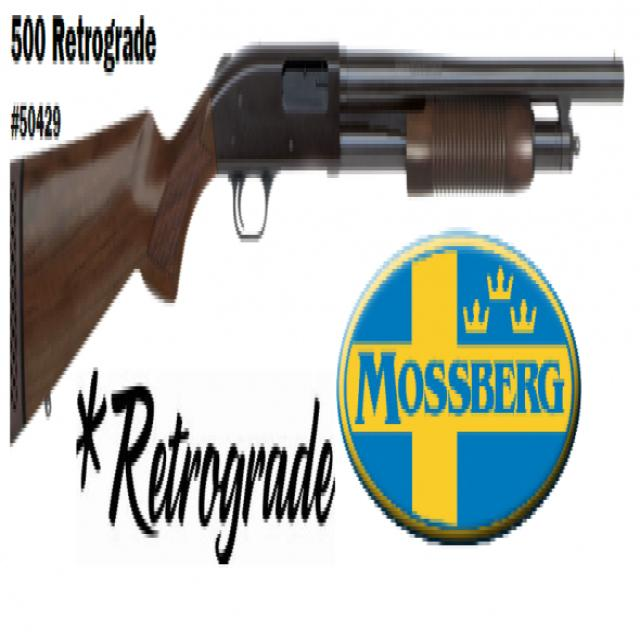ShotGun: (17, 45, 625, 417)
